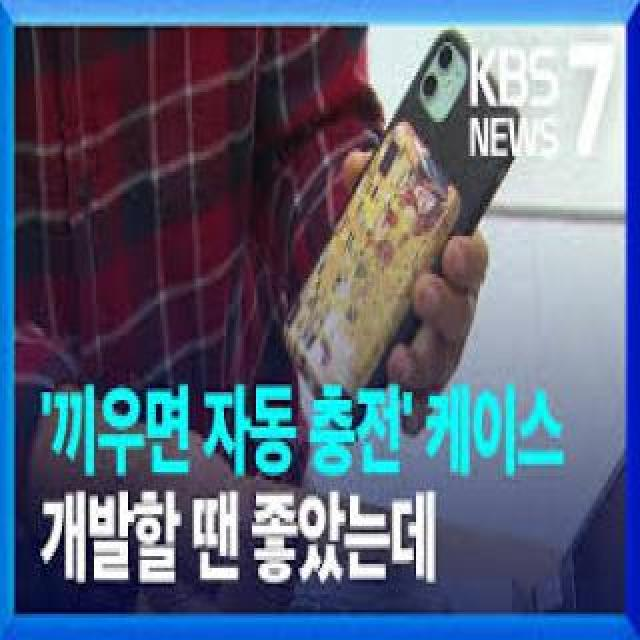smart phone: (275, 16, 510, 416)
